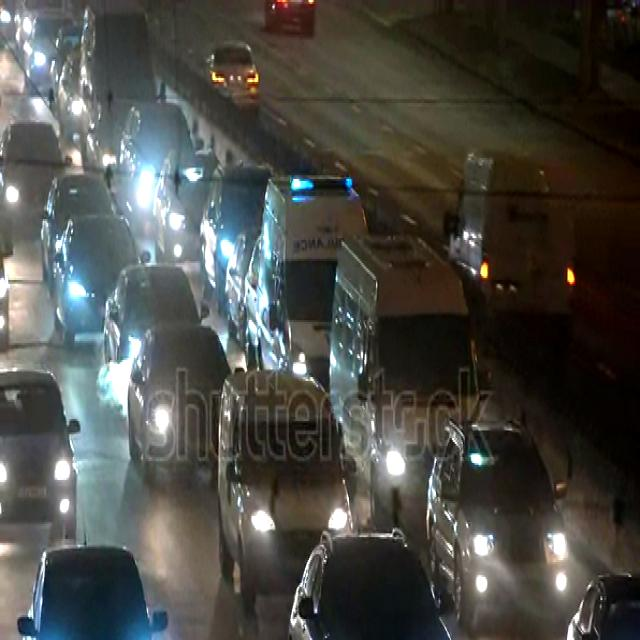ambulance: (256, 176, 371, 412)
